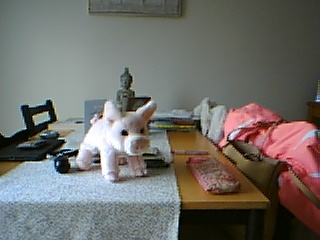piggy: (74, 98, 159, 182)
